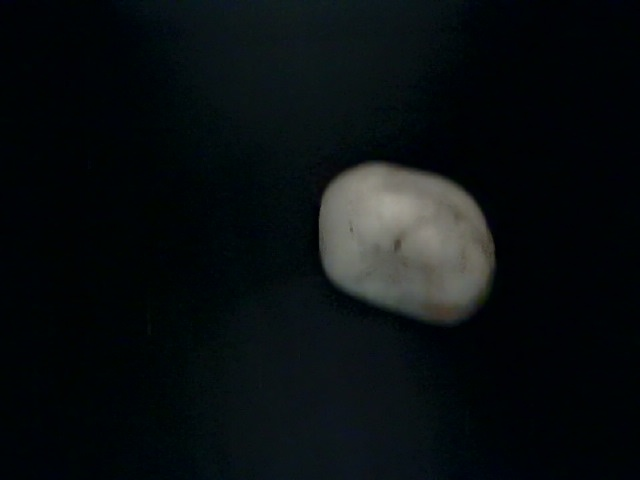QTLJ: (326, 180, 562, 456)
